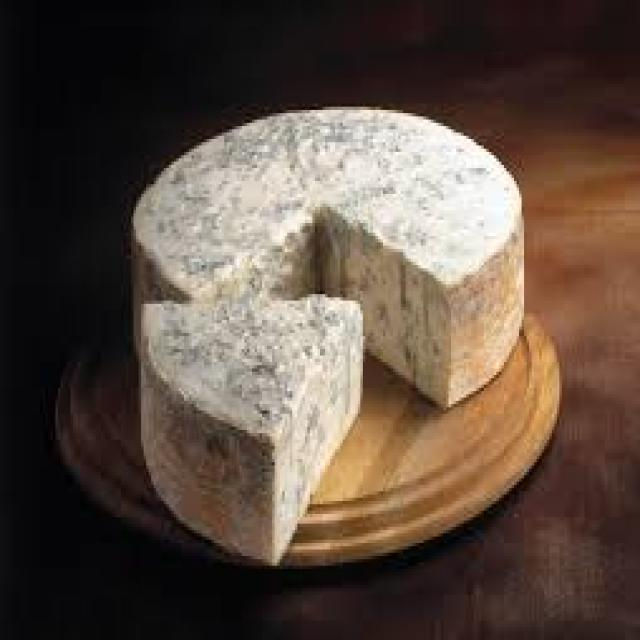Cheese: (116, 90, 544, 415), (112, 313, 390, 543)
